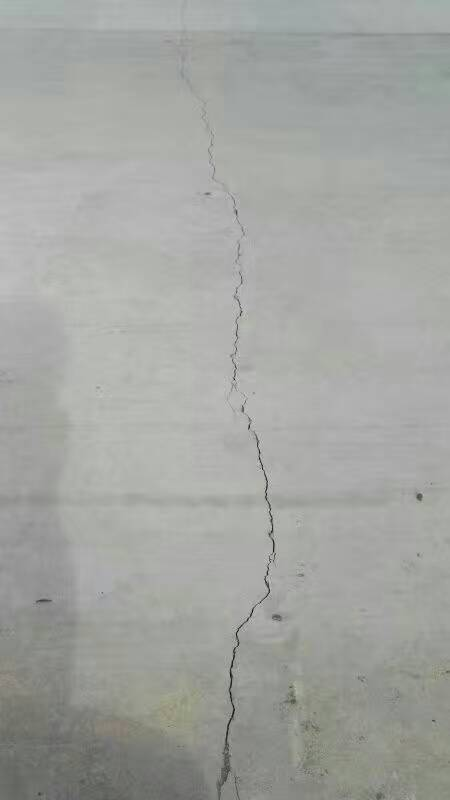crack: (116, 1, 295, 797)
